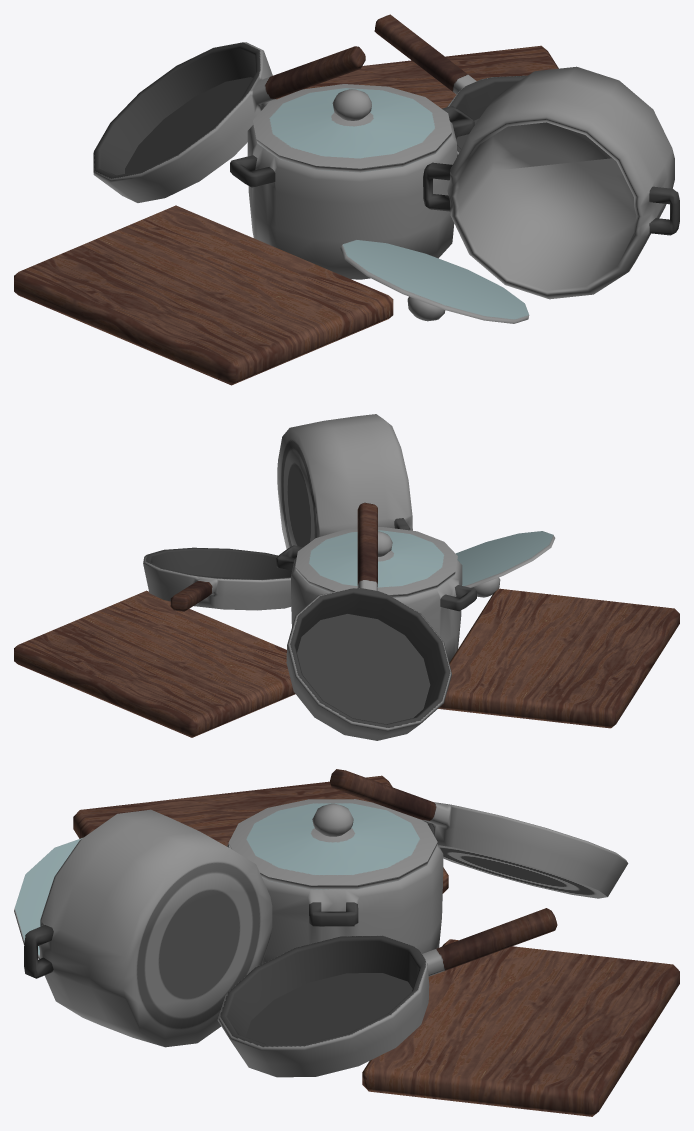
Rendered from MOD_Pots&Pans_Pile.fbx.
The picture shows the model from 3 angles, top to bottom: view 1: azimuth 30°, elevation 25°; view 2: azimuth 150°, elevation 25°; view 3: azimuth 270°, elevation 25°; orthographic projection. The views are drawn at different scales.
Parts seen in each view (by area): view 1: Pots_Pans_pile_GEO; view 2: Pots_Pans_pile_GEO; view 3: Pots_Pans_pile_GEO.
Boxes of the visible parts, box(x1,y1,x2,y2) form: Pots_Pans_pile_GEO: box(14, 14, 679, 385); Pots_Pans_pile_GEO: box(14, 414, 679, 740); Pots_Pans_pile_GEO: box(14, 769, 679, 1116).
Bounding box in the file's own units: 187 × 54.23 × 163.
